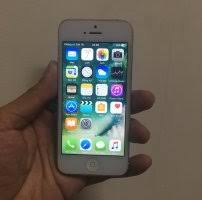iphone: (51, 16, 134, 177)
iphone5: (51, 16, 134, 177)
